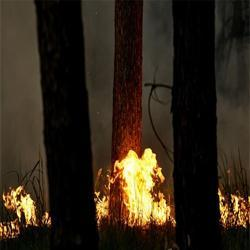fire: (115, 149, 172, 224), (221, 192, 248, 225), (14, 191, 38, 227)
